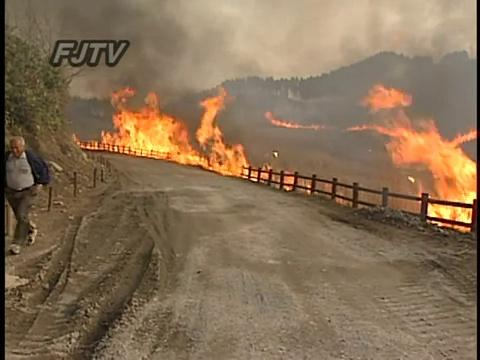fire: (113, 113, 182, 161), (399, 131, 445, 168), (445, 162, 474, 200)
